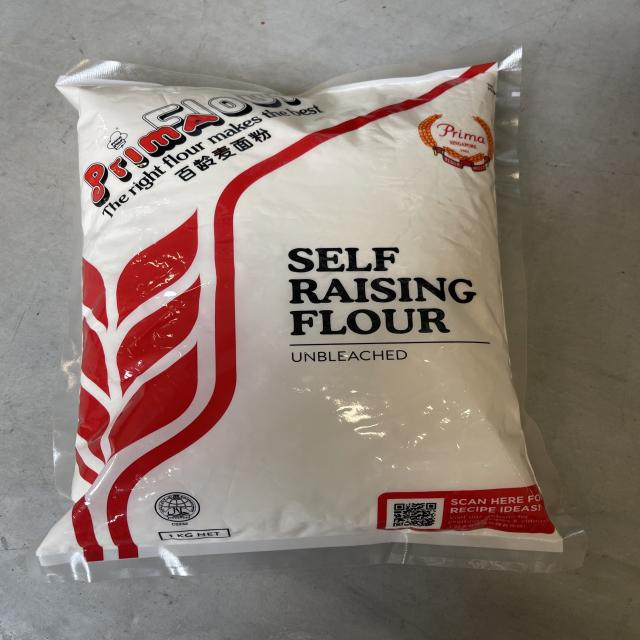object_name: (67, 69, 540, 562)
